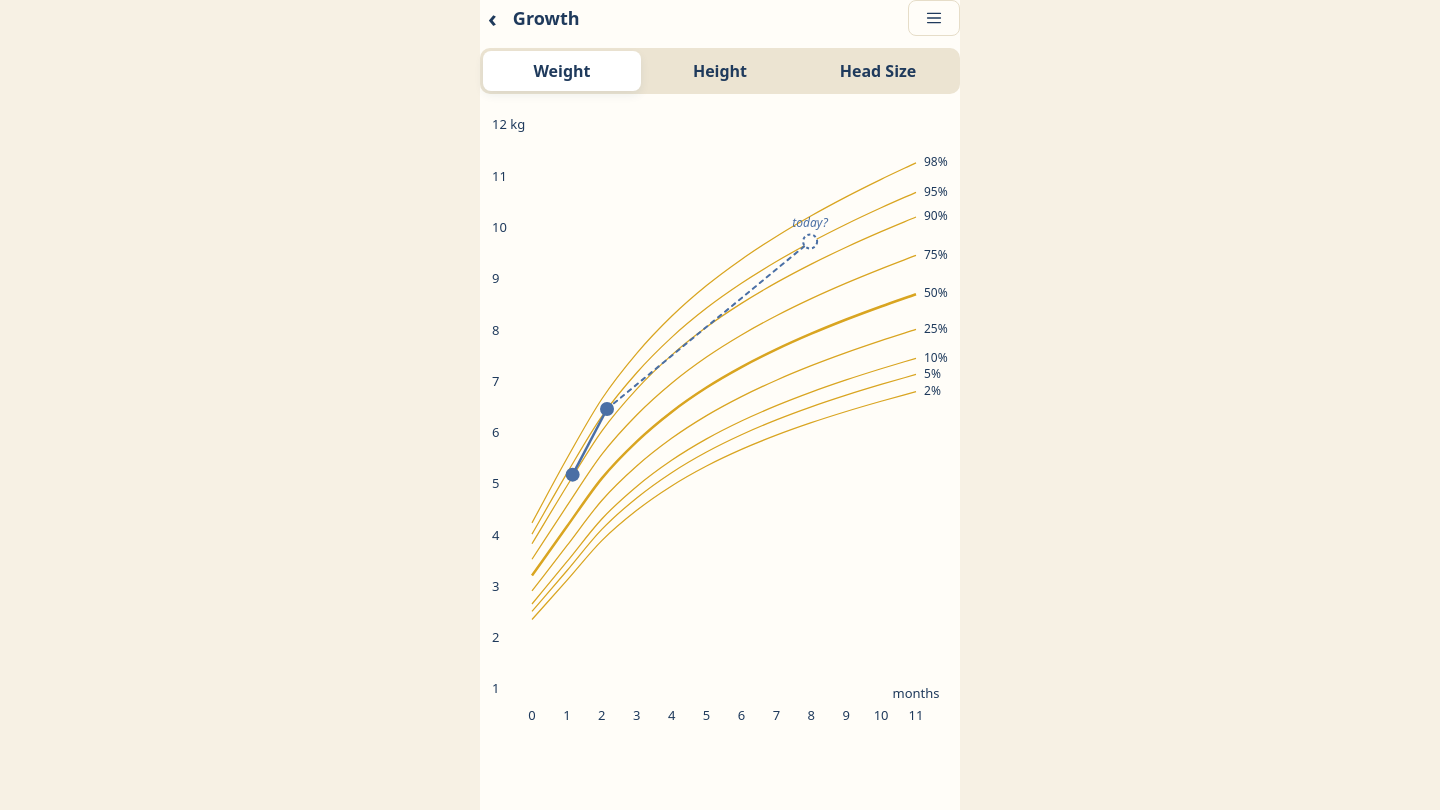
Test case: GrowthDetailPage › opens the growth form to edit an entry from the list view
Click the button named "Show list".
click(934, 18)  # box [908,0,960,36]
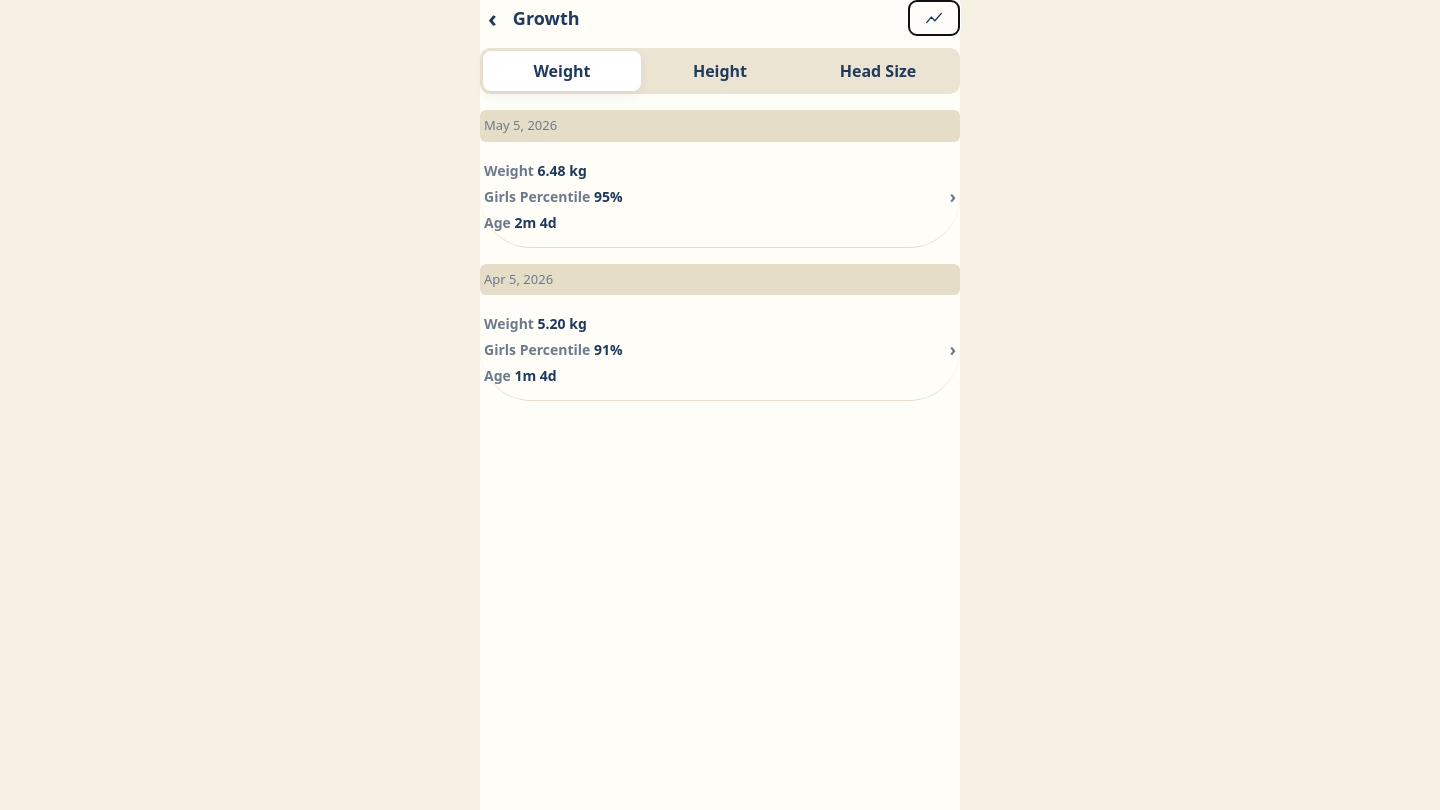
Click the button "Weight 6.48 kg Girls Percentile 95% › Age 2m 4d".
click(509, 170)  # box [480,146,960,248]
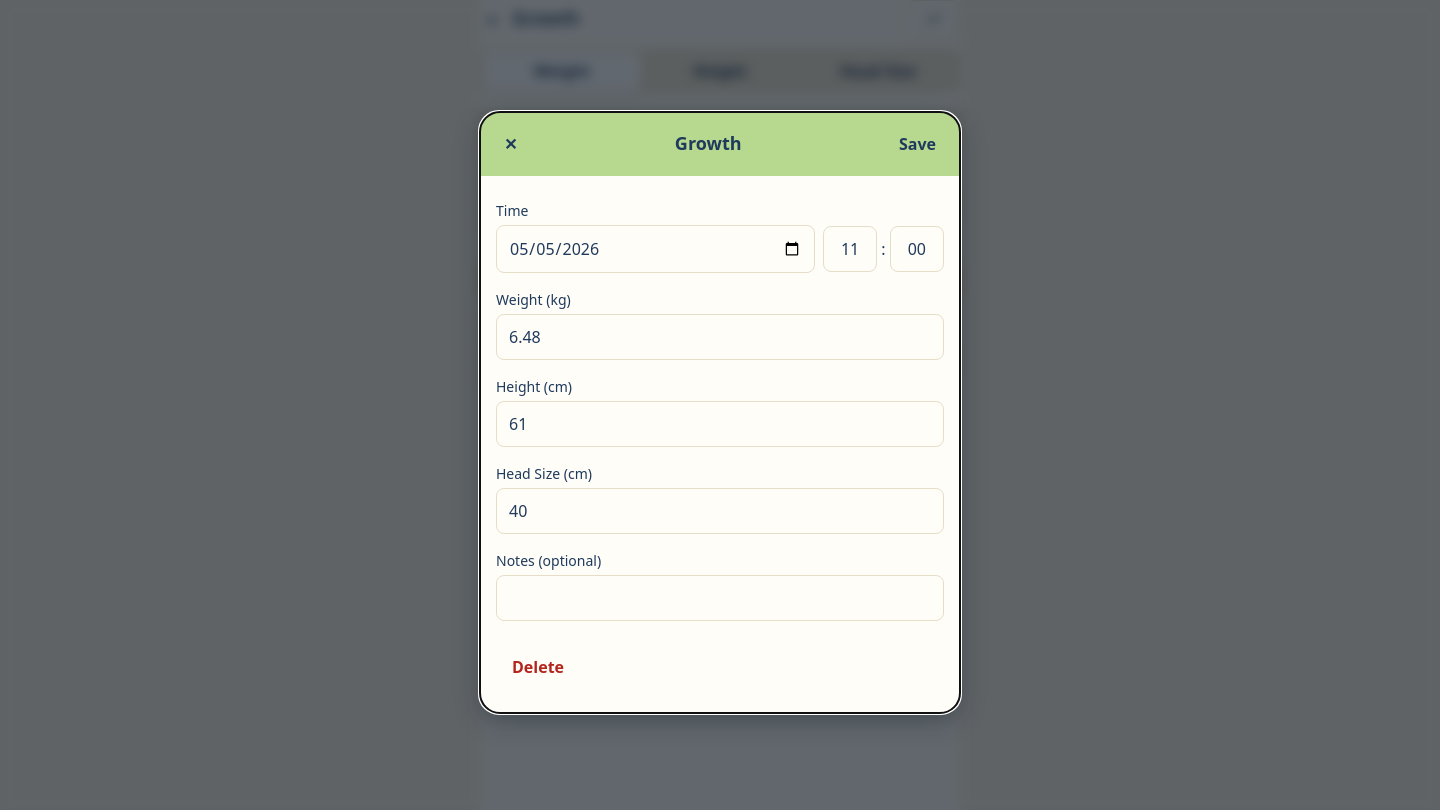
Expected: the dialog "Growth" is shown, [480,112,960,713]
Expected: the number field labelled "Weight (kg)" holds "6.48", [496,314,944,360]
